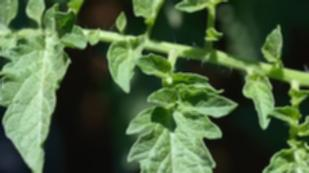Tomato leaf mosaic virus: (0, 31, 75, 173), (121, 96, 216, 173), (104, 32, 147, 96), (241, 66, 278, 133), (129, 0, 175, 32), (135, 54, 170, 81)
